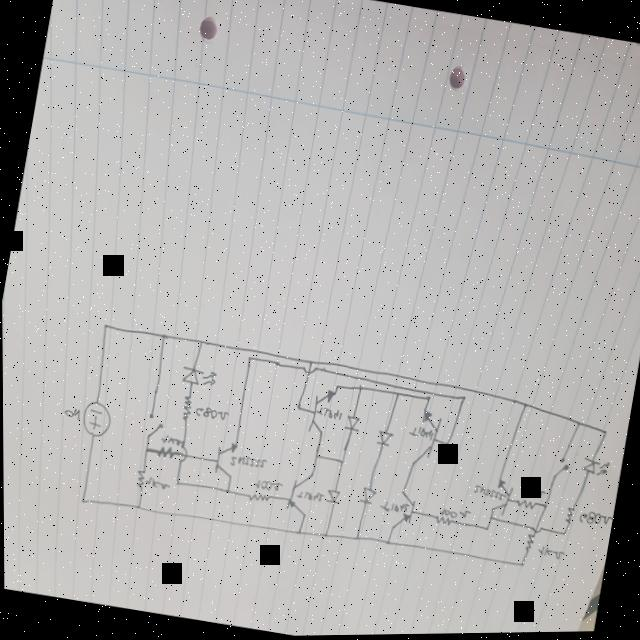crossover: (176, 443, 187, 462), (299, 365, 316, 377), (528, 525, 541, 535)
diode: (177, 363, 217, 388), (577, 455, 609, 480), (372, 427, 393, 449), (355, 484, 376, 505), (341, 412, 362, 433), (321, 486, 342, 505)
junction: (519, 399, 527, 410), (158, 330, 166, 340), (336, 457, 344, 466), (195, 338, 203, 347), (598, 430, 606, 438), (457, 395, 465, 403), (540, 502, 547, 511), (355, 384, 362, 393), (293, 402, 300, 411), (142, 444, 148, 454), (573, 420, 580, 428), (516, 562, 523, 570), (352, 533, 359, 541), (100, 321, 106, 330), (173, 477, 178, 487), (558, 530, 565, 537), (320, 531, 327, 538), (306, 358, 313, 365), (244, 355, 251, 362), (442, 440, 448, 448), (78, 496, 84, 504), (486, 514, 492, 521), (423, 395, 429, 402), (393, 391, 399, 398), (312, 452, 318, 459), (383, 539, 388, 547), (134, 501, 139, 509), (483, 526, 488, 533), (294, 528, 299, 535), (223, 487, 228, 494)
resistor: (177, 390, 192, 423), (244, 489, 270, 507), (153, 441, 175, 461), (512, 496, 535, 514), (560, 503, 575, 527), (520, 532, 534, 556), (431, 514, 453, 529), (132, 468, 146, 491)
source: (76, 396, 116, 440)
switch: (142, 408, 166, 441), (548, 455, 570, 484)
text: (574, 507, 613, 530), (226, 451, 264, 472), (469, 483, 505, 503), (376, 497, 409, 517), (192, 404, 227, 422), (534, 544, 564, 563), (293, 487, 323, 505), (252, 476, 282, 493), (312, 405, 342, 422), (437, 505, 470, 520), (405, 424, 434, 440), (141, 476, 169, 491), (59, 403, 79, 421), (521, 486, 546, 500), (159, 432, 180, 446)
transistor: (406, 404, 443, 471), (304, 386, 337, 438), (282, 469, 315, 519), (209, 437, 239, 480), (388, 487, 416, 532), (486, 476, 515, 519)
